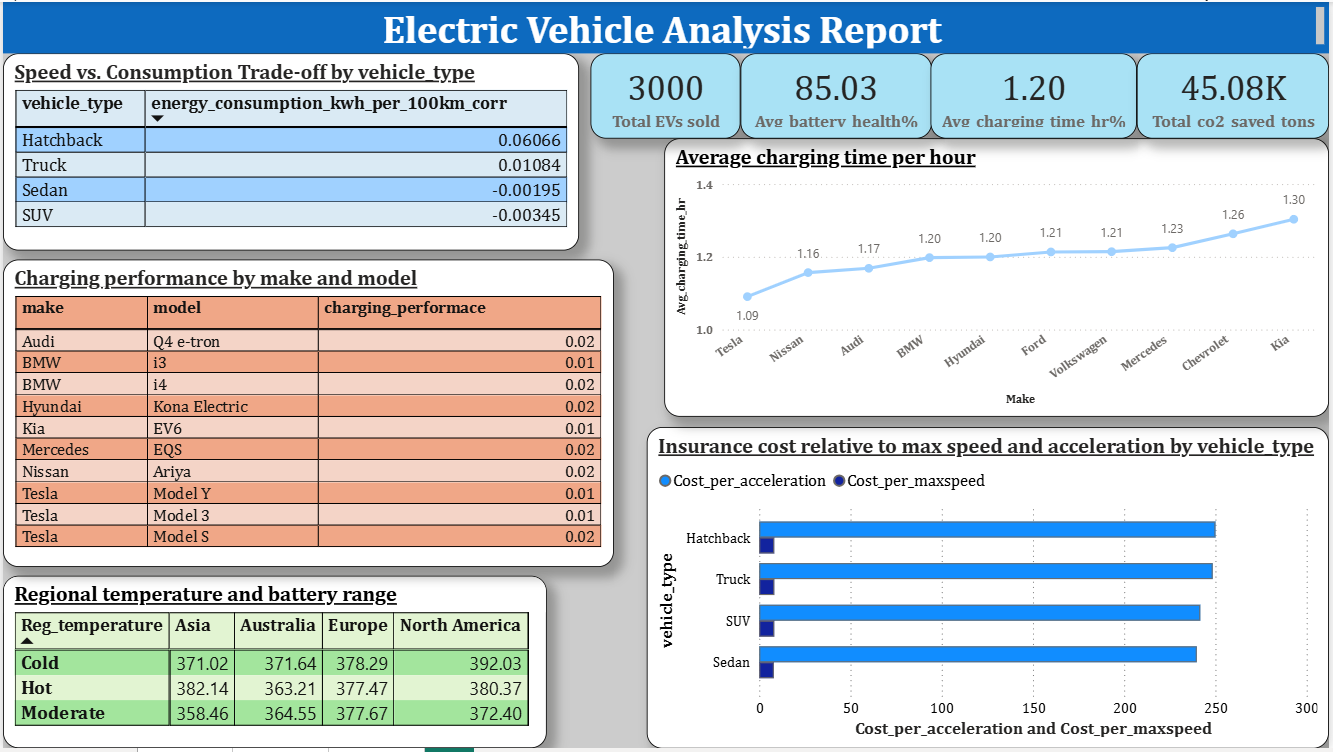

The dashboard page shown, as its layout file describes it:
{"tool":"powerbi","page":{"name":"Page 3","canvas":[1280,720],"ordinal":2},"visuals":[{"type":"pivotTable","title":"Regional temperature and battery range","fields":{"Rows":["Query9.reg_temperature"],"Values":["Sum(Query9.battery_range_km)"],"Columns":["Query9.region"]},"box":[0,553.8,524.8,166.5],"z":0},{"type":"clusteredBarChart","title":"Insurance cost relative to max speed and acceleration by vehicle_type","fields":{"Category":["Query8.vehicle_type"],"Y":["Sum(Query8.cost_per_acceleration)","Sum(Query8.cost_per_maxspeed)"]},"box":[621.3,410.2,658.7,310.1],"z":1000},{"type":"lineChart","title":"Average charging time per hour","fields":{"Category":["KPI_4.Make"],"Y":["Sum(KPI_4.avg_charging_time_hr)"]},"box":[638.2,131.5,641.8,269],"z":3000},{"type":"tableEx","title":"Speed vs. Consumption Trade-off by vehicle_type","fields":{"Values":["Query7.vehicle_type","Sum(Query6.speed_energy_corr)"]},"box":[0,49.5,556.2,190.6],"z":4000},{"type":"card","title":"Most sold EV company","fields":{"Values":["Sum(KPI_1.total_vehicles)"]},"box":[567,49.5,144.8,82],"z":5000},{"type":"card","title":"Average battery health by make","fields":{"Values":["Avg(KPI_2.avg_battery_health)"]},"box":[711.8,49.5,184.6,82],"z":6000},{"type":"card","title":"Average charging time per hour","fields":{"Values":["Avg(KPI_4.avg_charging_time_hr)"]},"box":[895.2,49.5,199.1,82],"z":7000},{"type":"card","title":"Total co2 saved ","fields":{"Values":["Sum(KPI_3.total_co2_saved_tons)"]},"box":[1094.2,49.5,185.8,82],"z":8000},{"type":"textbox","box":[0,0,1280,49.5],"z":9000},{"type":"tableEx","title":"Charging performance by make and model","fields":{"Values":["Query7.make","Query7.model","Query7.charging_performace"]},"box":[0,248.5,589.9,296.8],"z":9001}]}

Visuals, with their boxes in screenshot pixels (x1, y1, x2, y2), scaled from the page's 1280x720 canvas onto the 1333x752 screenshot:
"Regional temperature and battery range" pivotTable: (left=0, top=578, right=547, bottom=751)
"Insurance cost relative to max speed and acceleration by vehicle_type" clusteredBarChart: (left=647, top=428, right=1332, bottom=751)
"Average charging time per hour" lineChart: (left=665, top=137, right=1332, bottom=418)
"Speed vs. Consumption Trade-off by vehicle_type" tableEx: (left=0, top=52, right=579, bottom=251)
"Most sold EV company" card: (left=590, top=52, right=741, bottom=137)
"Average battery health by make" card: (left=741, top=52, right=934, bottom=137)
"Average charging time per hour" card: (left=932, top=52, right=1140, bottom=137)
"Total co2 saved " card: (left=1140, top=52, right=1332, bottom=137)
textbox: (left=0, top=0, right=1332, bottom=52)
"Charging performance by make and model" tableEx: (left=0, top=260, right=614, bottom=570)
